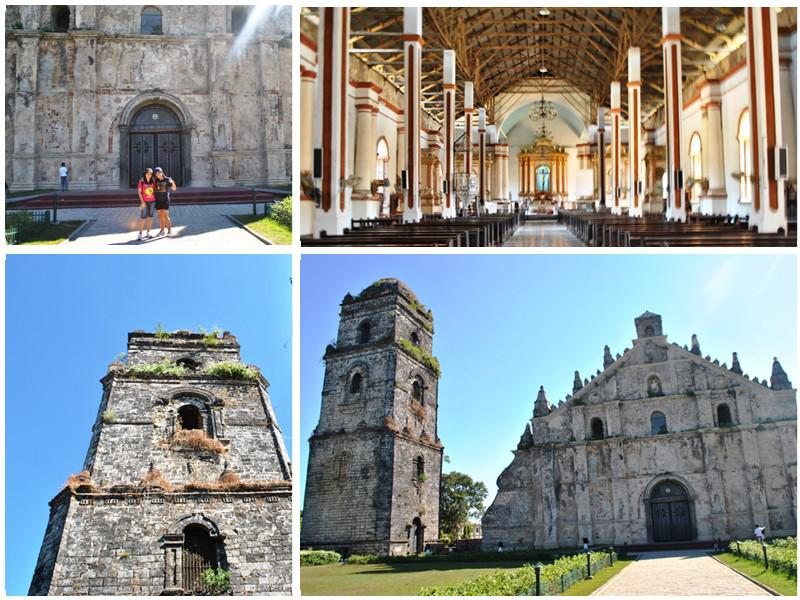Environmental Damage: (386, 421, 447, 451), (396, 338, 445, 374)
Paoay Church: (306, 271, 800, 540)
